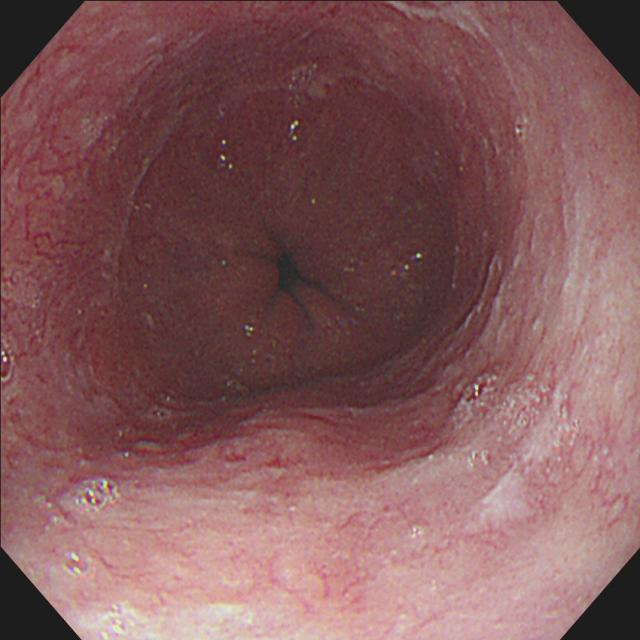D: (2, 94, 72, 320)
E: (259, 242, 324, 313)
J: (386, 3, 489, 39)
T: (454, 370, 574, 468), (73, 474, 122, 513), (63, 551, 98, 579), (2, 334, 15, 385)
U: (287, 119, 302, 144)
